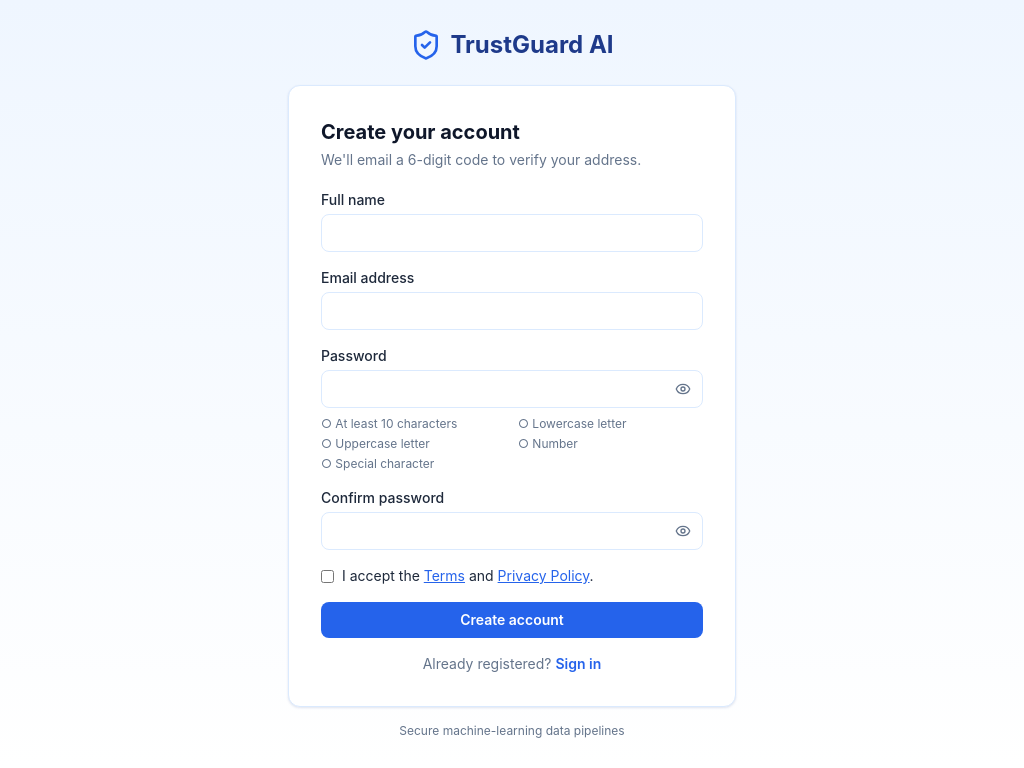
Scenario: registration › shows server-side errors without crashing
Type "Ada Lovelace" into the field labelled "Full name" at (512, 233), box [321,214,703,252]
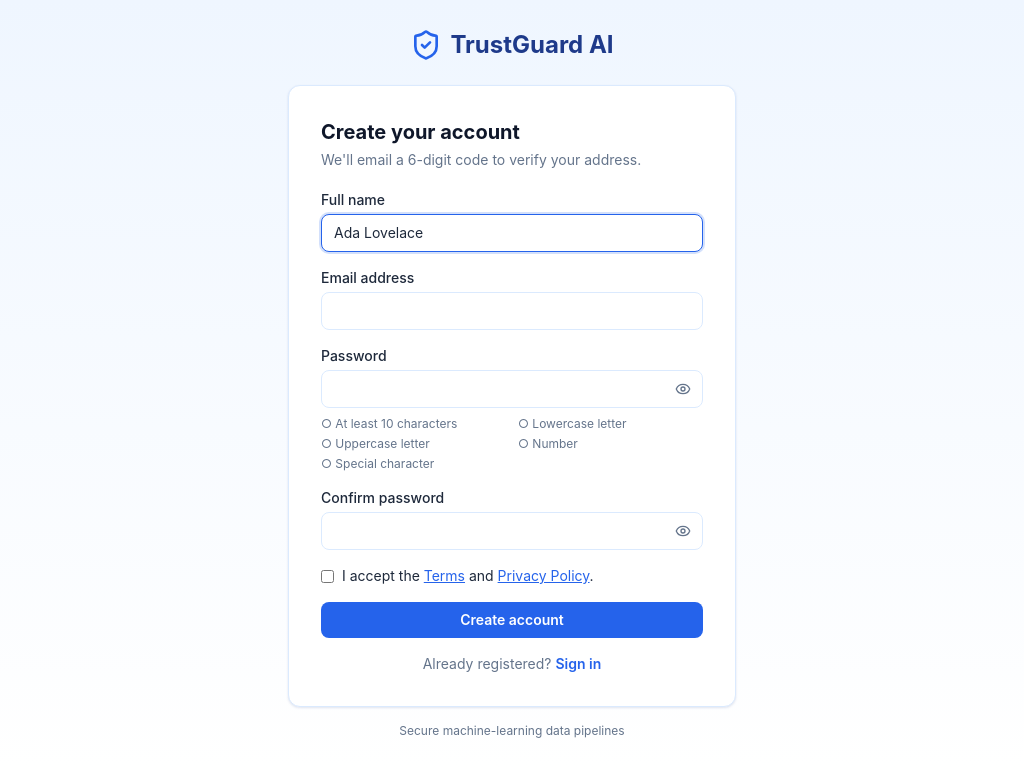
Type "ada@example.com" into the field labelled "Email address" at (512, 311), box [321,292,703,330]
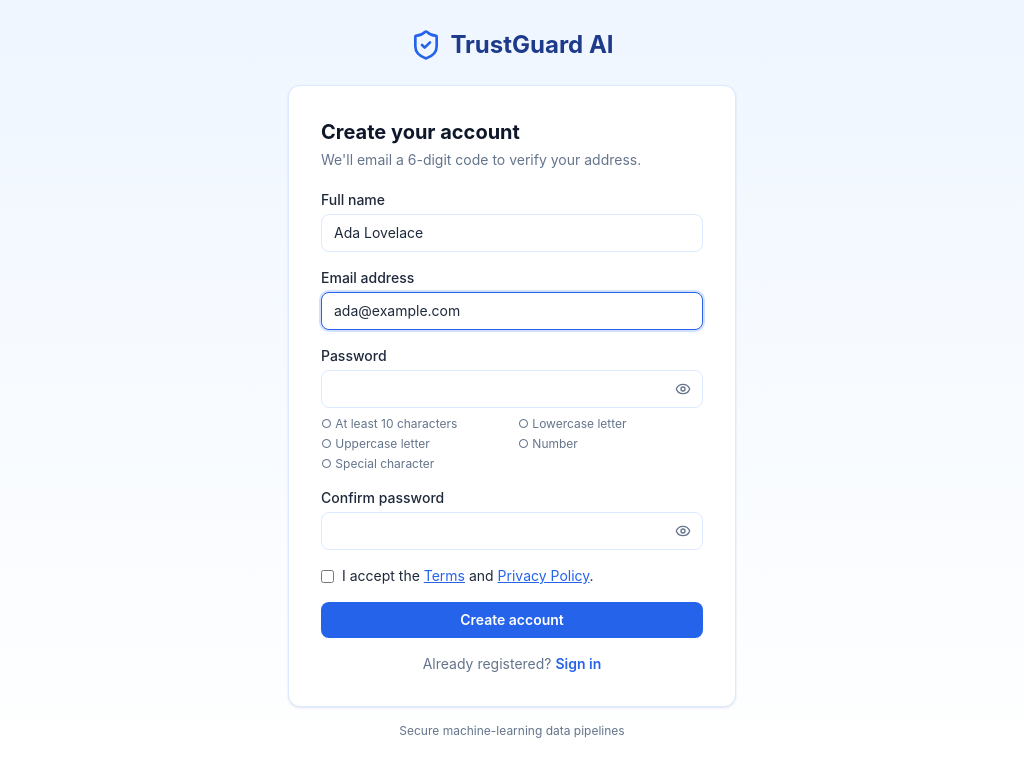
Type "Str0ng!Passw0rd" into the password field labelled "Password" at (512, 389), box [321,370,703,408]
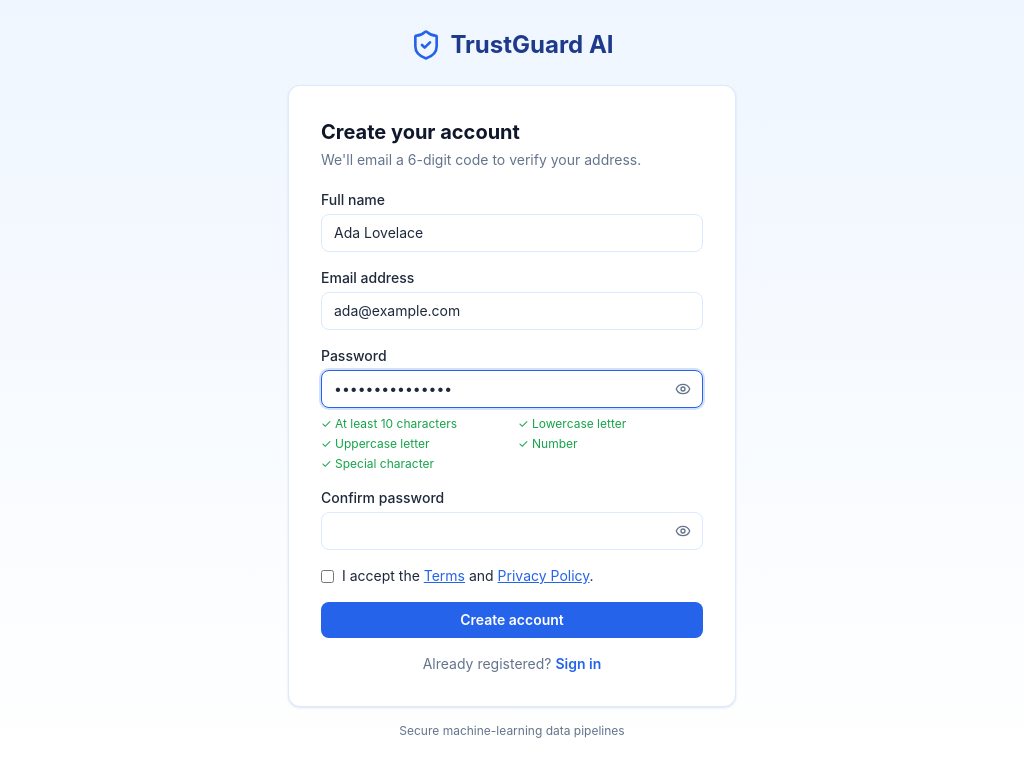
Type "Str0ng!Passw0rd" into the password field labelled "Confirm password" at (512, 531), box [321,512,703,550]
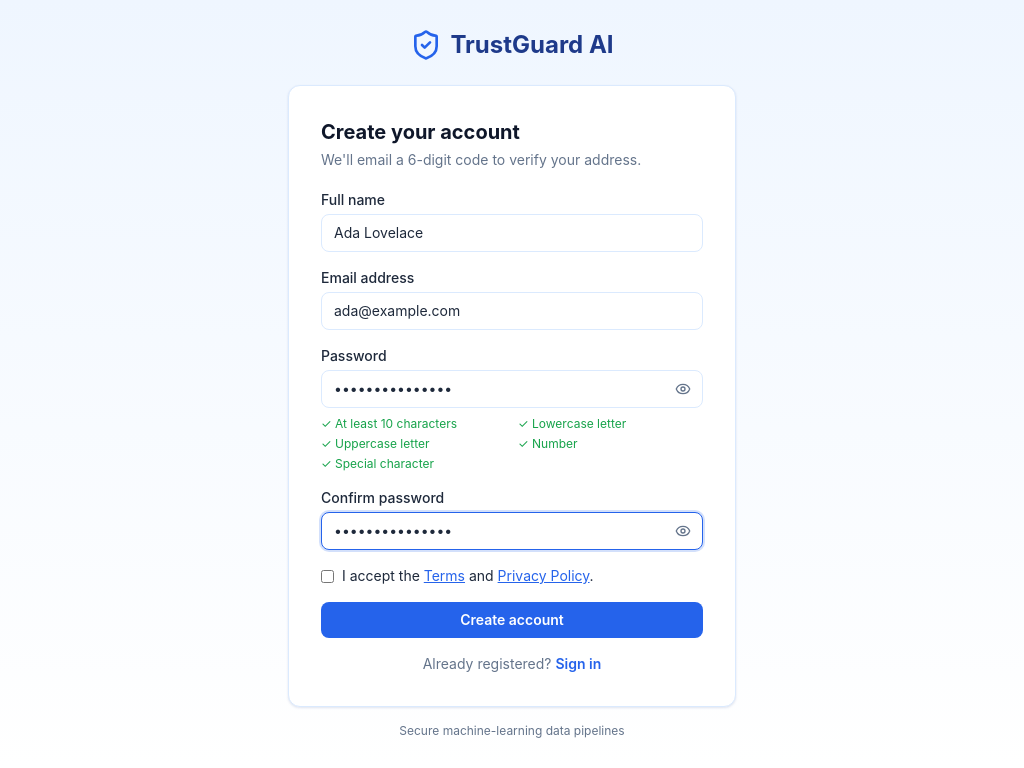
Click the checkbox at (328, 576), box [321,570,334,583]
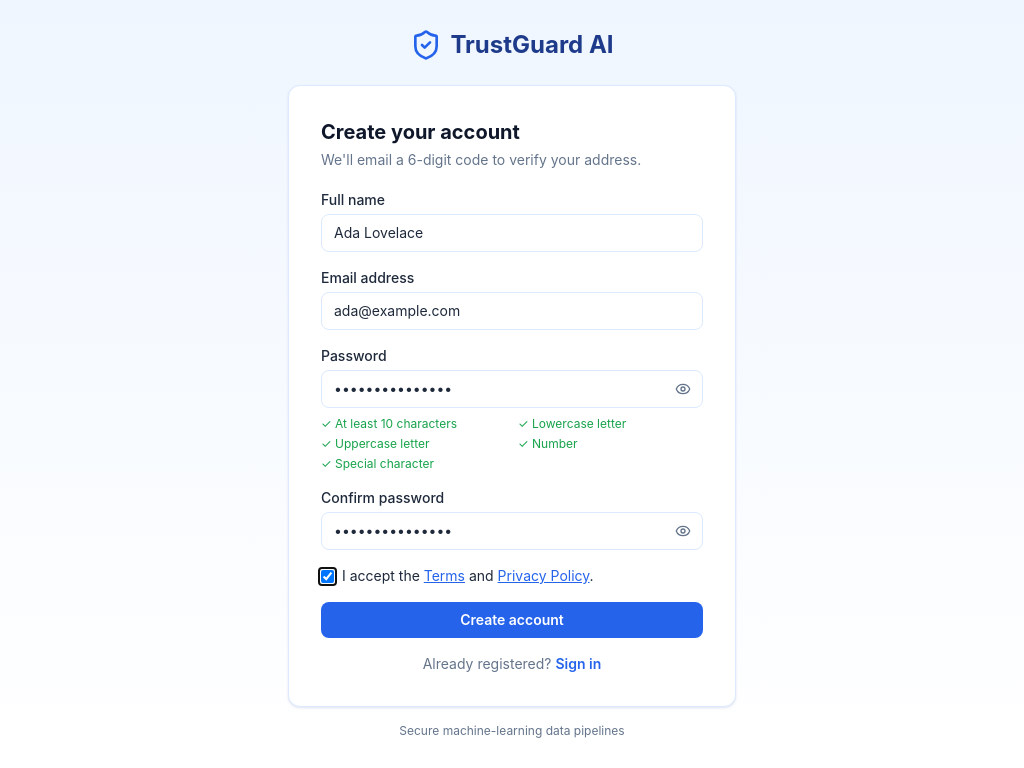
Click the button "Create account" at (512, 620), box [321,602,703,638]
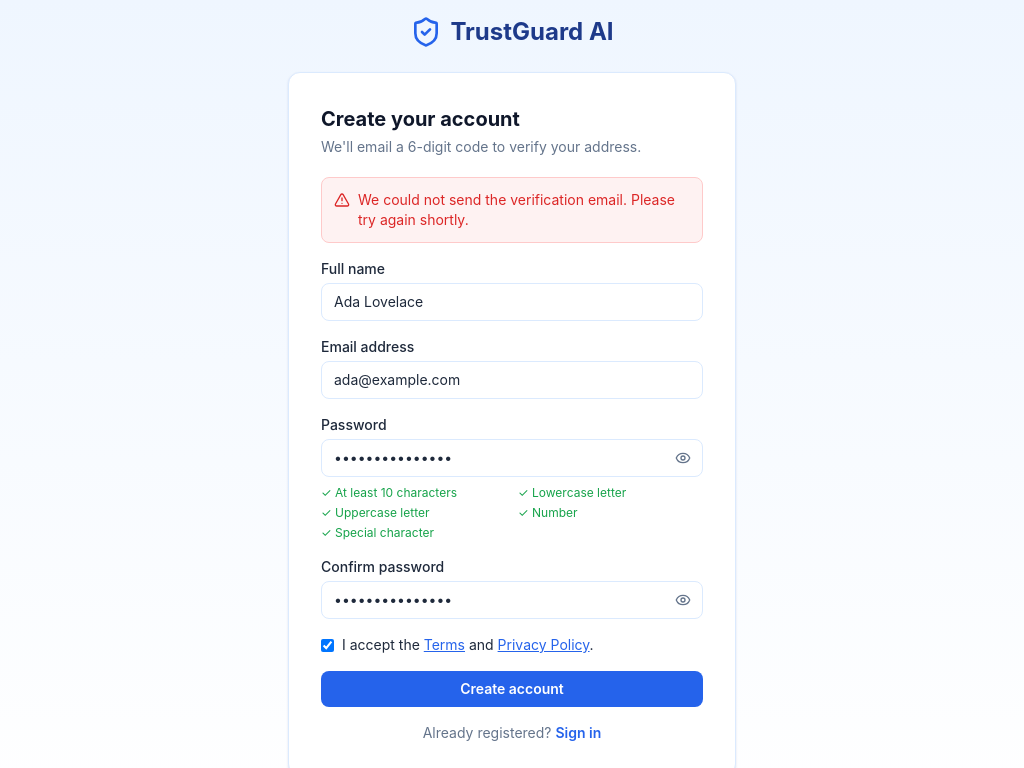
Result: the text "could not send the verification email" is shown at [358,191,675,228]
